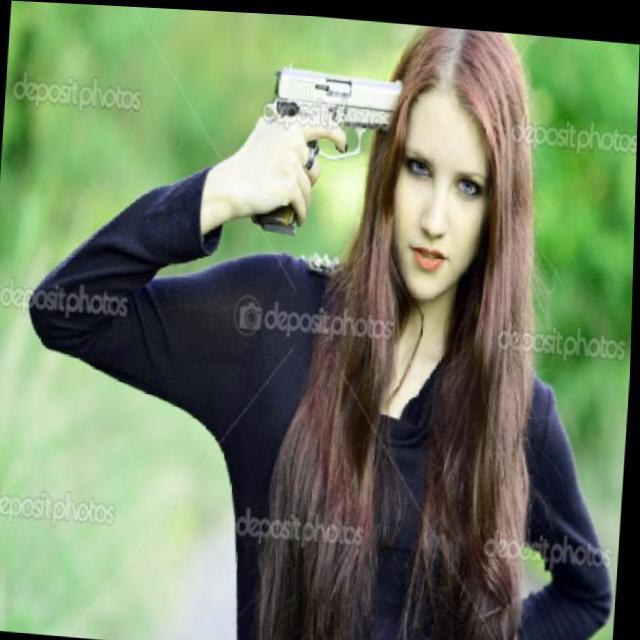weapon: (248, 57, 404, 238)
